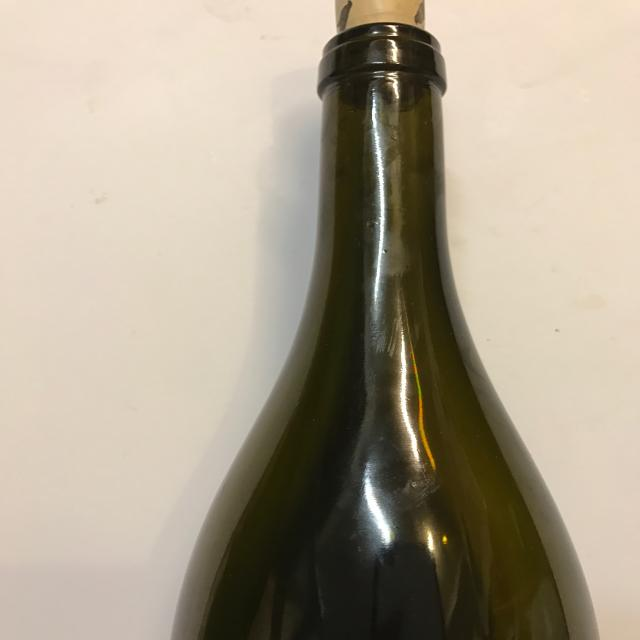glass: (181, 6, 604, 640)
